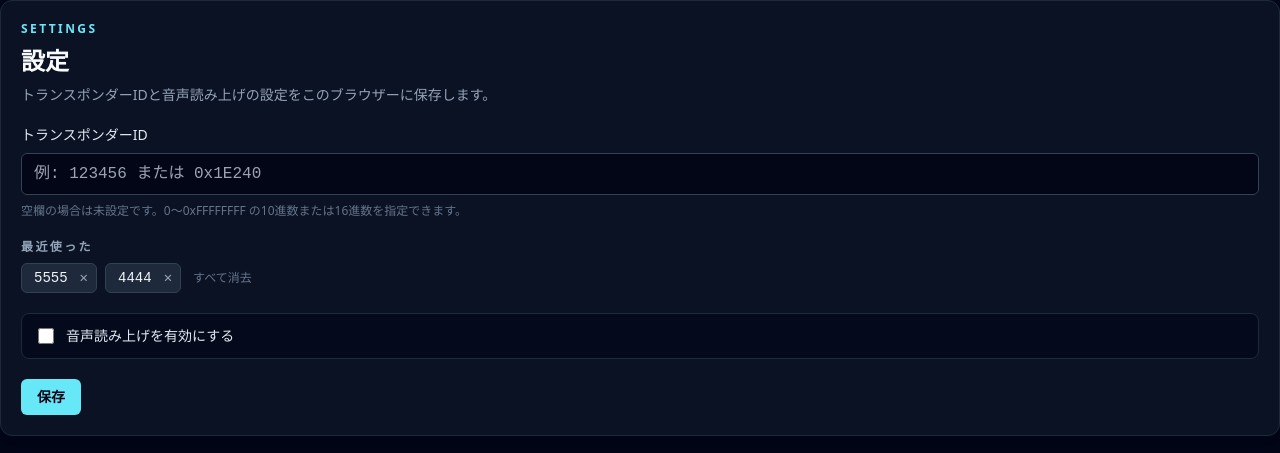
SettingsPage › recent transponders (#110) › fills the input on chip click without auto-saving
The width and height of the screenshot is (1280, 453).
Click the button named "5555 を入力欄に入れる" at (51, 278), box [34,268,68,288]
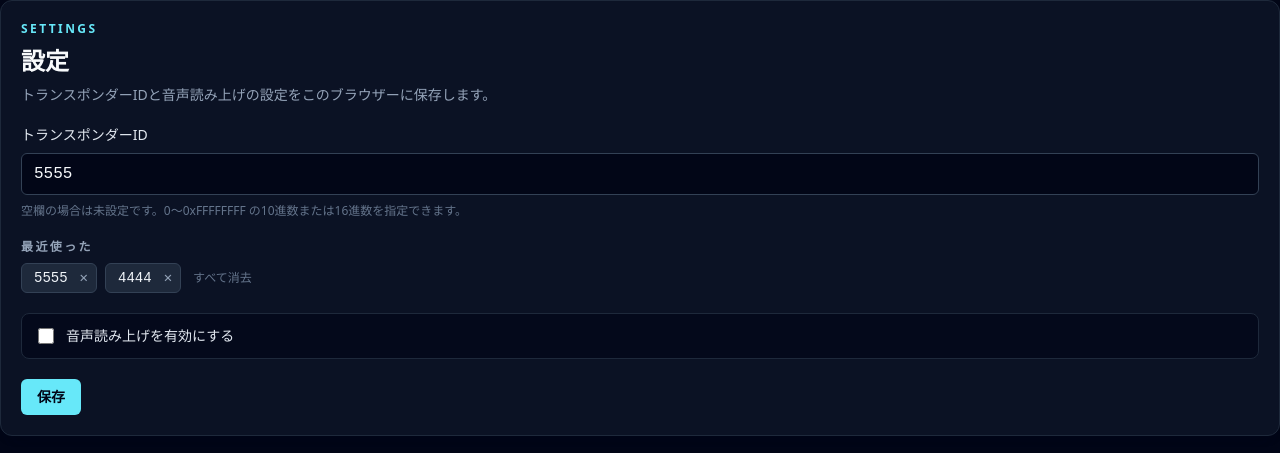
Result: the field labelled "トランスポンダーID" holds "5555" at [21,153,1259,195]
